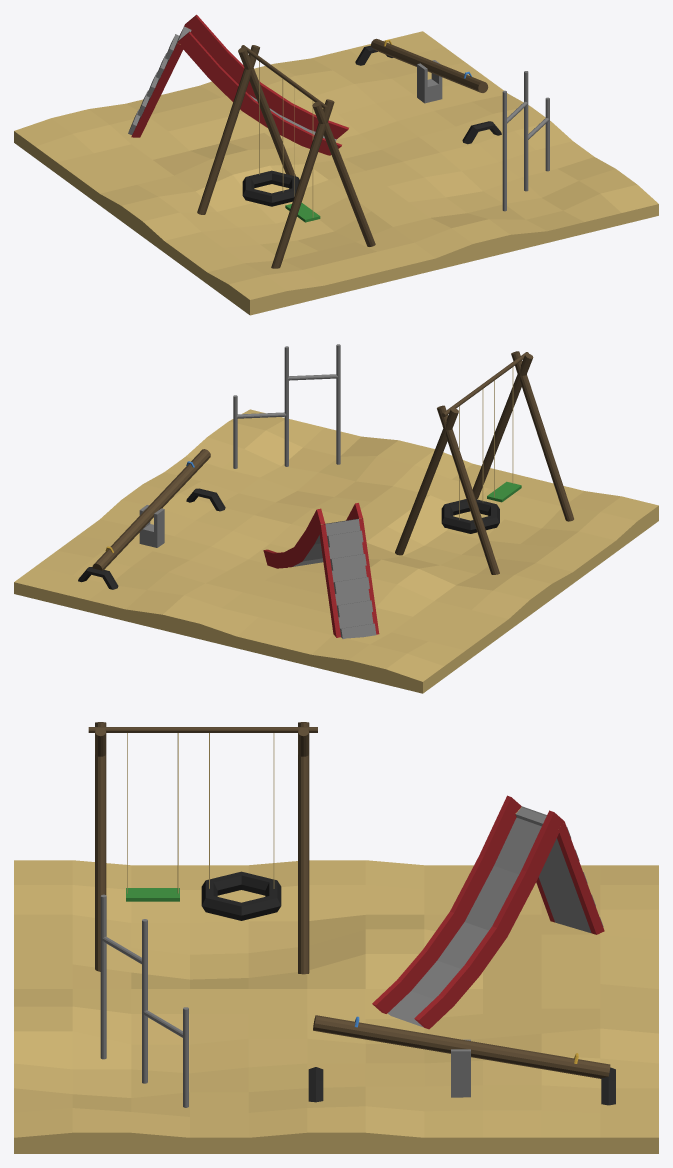
Rendered from Playground.fbx.
The picture shows the model from 3 angles, top to bottom: view 1: azimuth 30°, elevation 25°; view 2: azimuth 150°, elevation 25°; view 3: azimuth 270°, elevation 25°; orthographic projection. The views are drawn at different scales.
Parts seen in each view (by area): view 1: Torus.004; view 2: Torus.004; view 3: Torus.004.
Part boxes in pixels (x1=…): Torus.004: x1=14, y1=14, x2=658, y2=315; Torus.004: x1=14, y1=344, x2=658, y2=693; Torus.004: x1=14, y1=722, x2=658, y2=1153.
Bounding box in the file's own units: 1347 × 521 × 1347.
